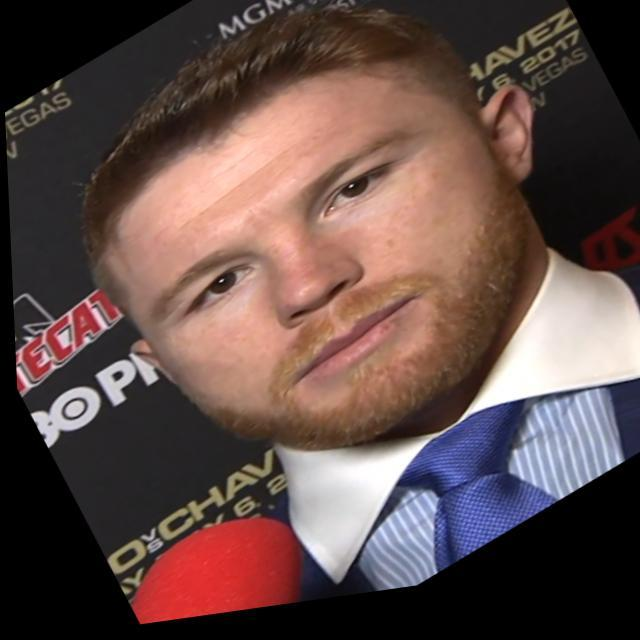Nonhelmet: (56, 0, 544, 459)
